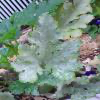Squash Powdery mildew leaf: (8, 14, 80, 83), (58, 0, 95, 39), (55, 76, 99, 98)
